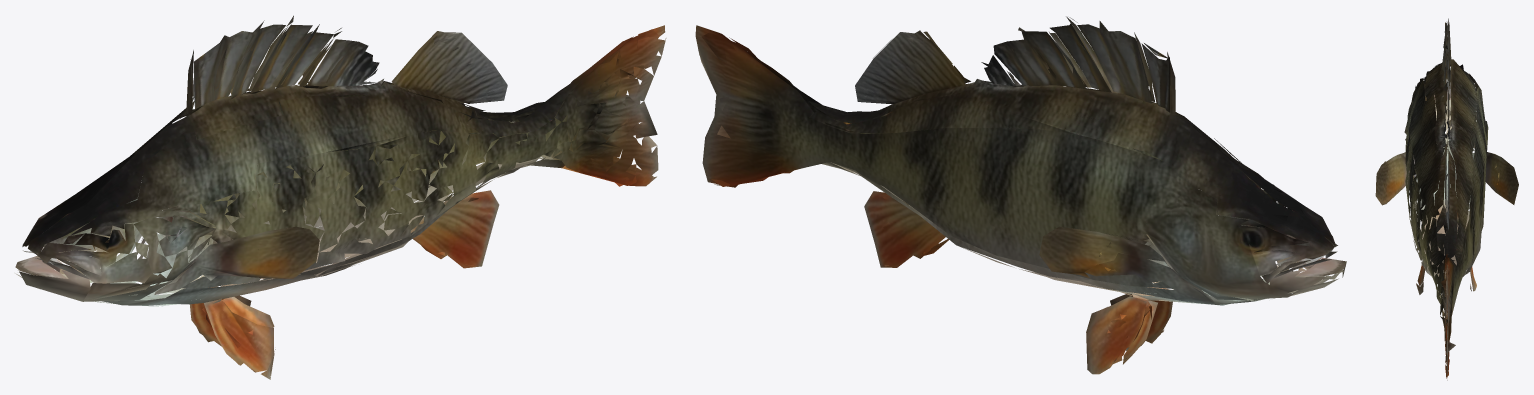
Rendered from kala_low.glb.
3 views of the same model, side by side, from view 1: azimuth 30°, elevation 25°; view 2: azimuth 150°, elevation 25°; view 3: azimuth 270°, elevation 25° (orthographic). The views are drawn at different scales.
Visible parts, largest first — view 1: world; view 2: world; view 3: world.
Part boxes in pixels (x1,y1,x2,y2): world: [15, 15, 666, 379]; world: [695, 16, 1346, 374]; world: [1375, 18, 1518, 380].
Size of the model in its own units: 1.95 by 0.9909 by 0.4812.
1 material, 1 textured.
